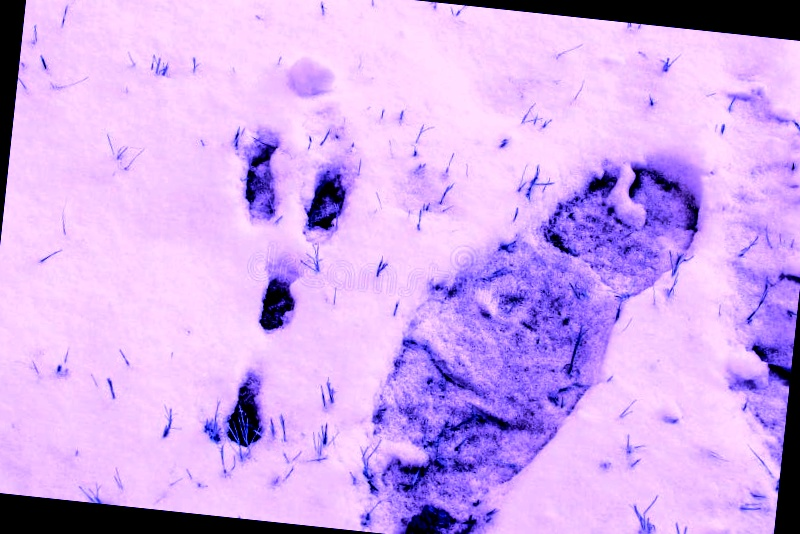lapin: (217, 126, 277, 242), (237, 378, 294, 473), (290, 163, 343, 260), (256, 268, 309, 350)
